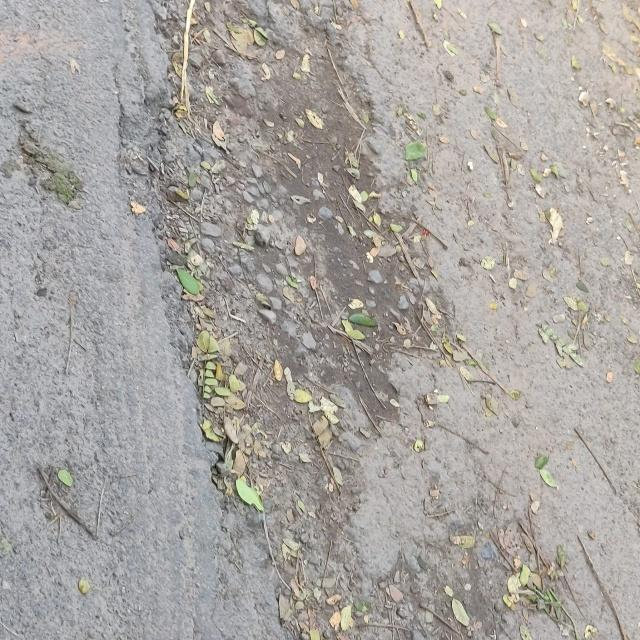Surface Erosion: (20, 0, 561, 640)
